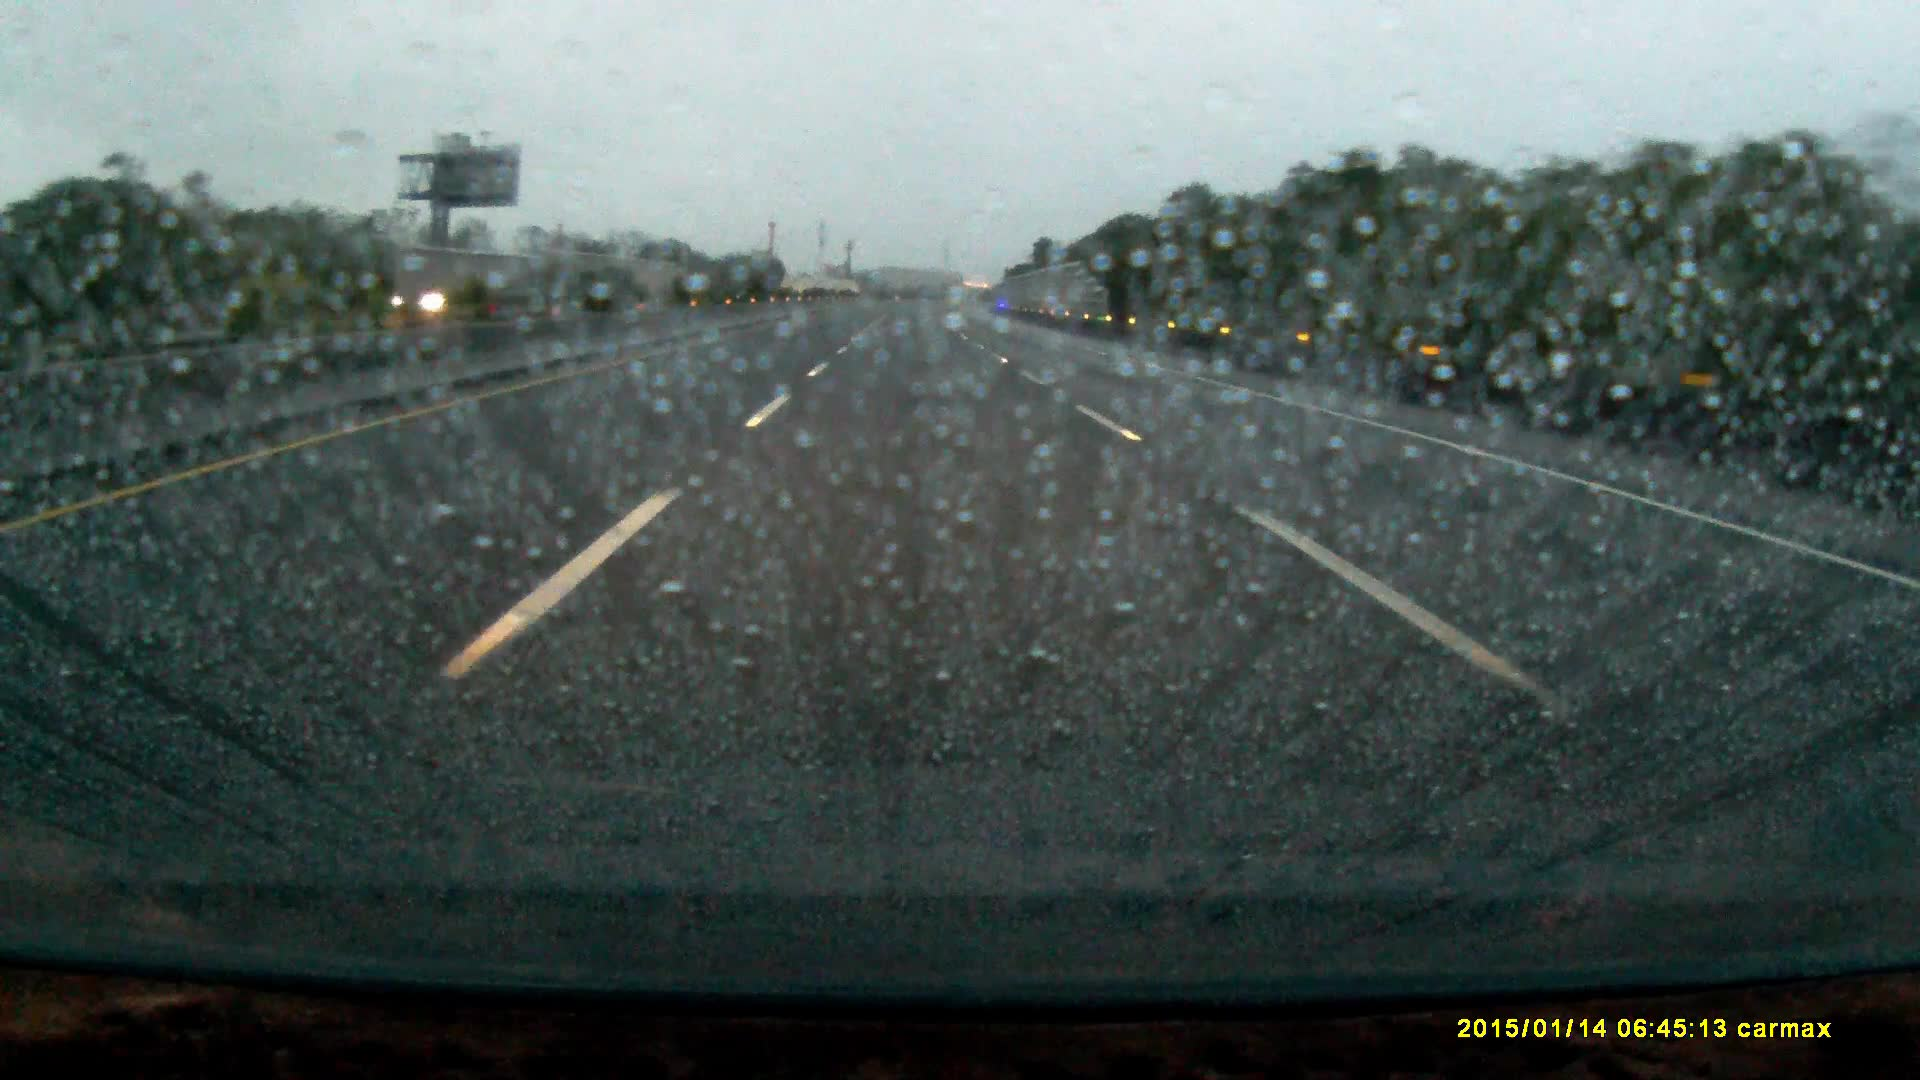vehicle: (389, 270, 513, 315)
